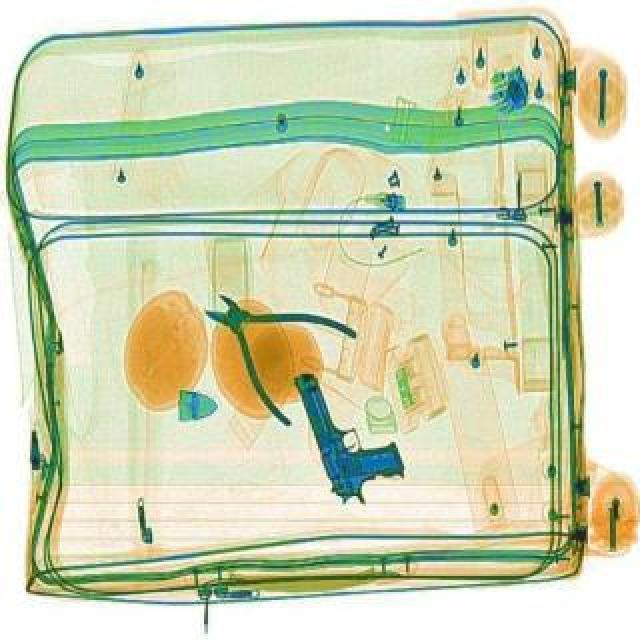gun: (288, 352, 412, 512)
wrench: (170, 254, 364, 426)
